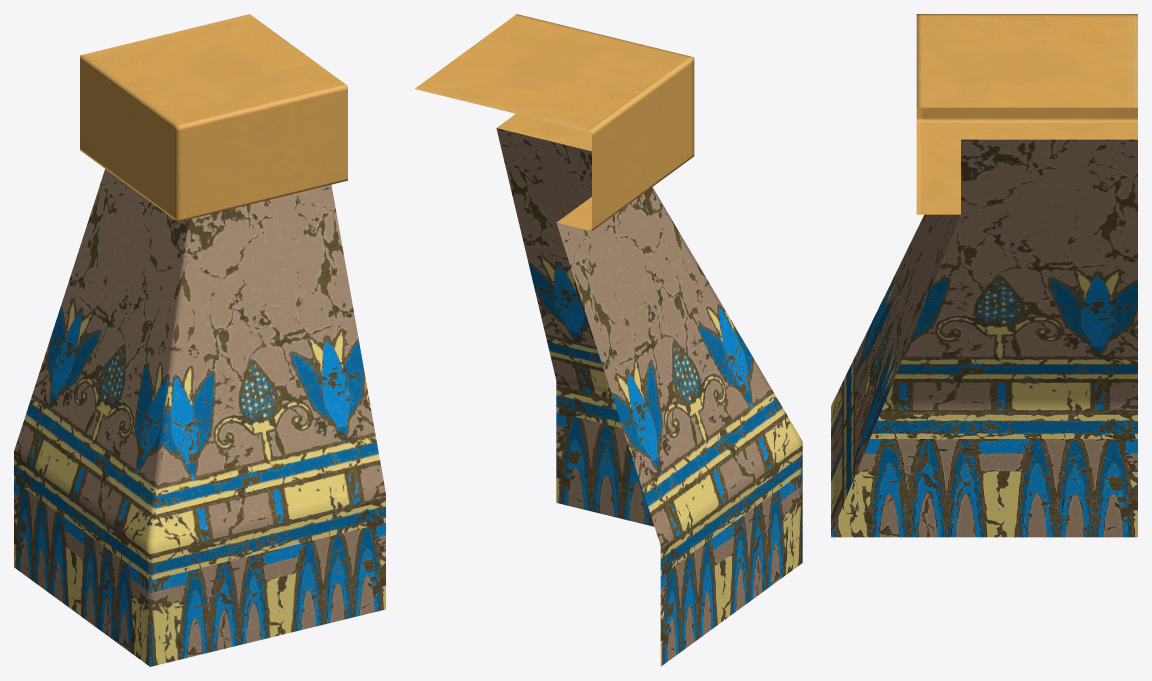
Rendered from SM_Beam_01_Corner_01.fbx.
3 views of the same model, side by side, from view 1: azimuth 30°, elevation 25°; view 2: azimuth 150°, elevation 25°; view 3: azimuth 270°, elevation 25° (orthographic). The views are drawn at different scales.
Parts seen in each view (by area): view 1: SM_Beam_01_Corner_01_LOD0; view 2: SM_Beam_01_Corner_01_LOD0; view 3: SM_Beam_01_Corner_01_LOD0.
Boxes of the visible parts, box(x1,y1,x2,y2) form: SM_Beam_01_Corner_01_LOD0: box(14, 14, 385, 666); SM_Beam_01_Corner_01_LOD0: box(415, 14, 802, 666); SM_Beam_01_Corner_01_LOD0: box(831, 14, 1137, 537).
Bounding box in the file's own units: 260 × 260 × 523.
